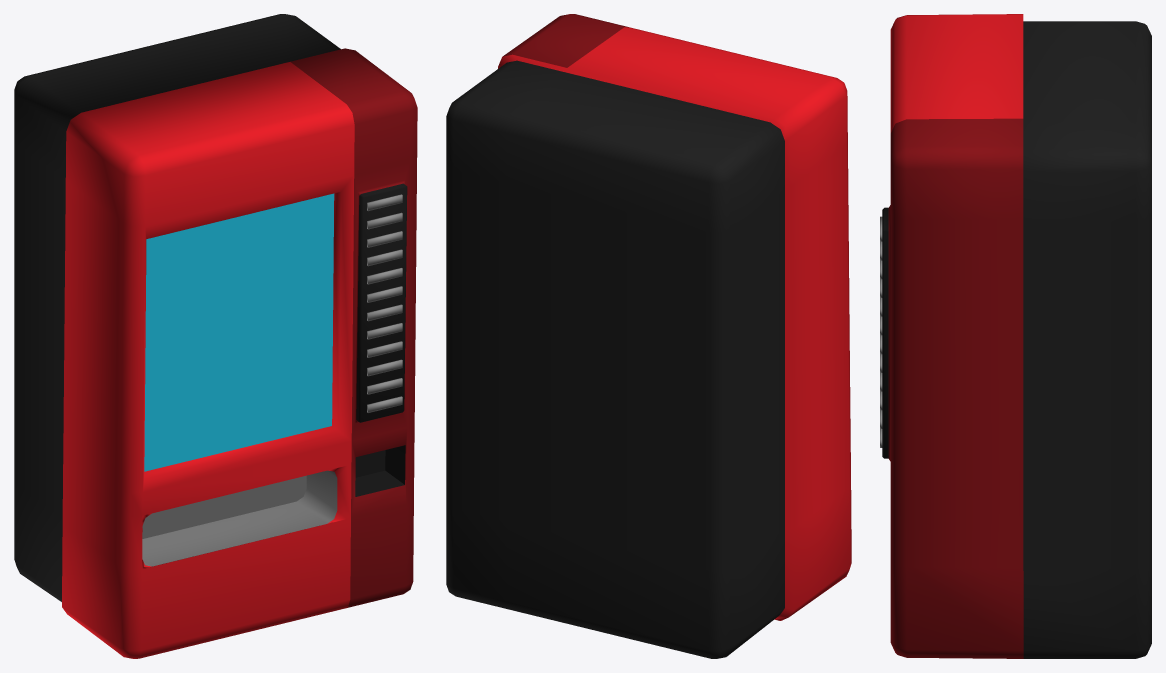
The model's file is newVend.fbx.
3 renders of one model, left to right at view 1: azimuth 30°, elevation 25°; view 2: azimuth 150°, elevation 25°; view 3: azimuth 270°, elevation 25°, orthographic. The views are drawn at different scales.
Visible parts, largest first — view 1: Cube; view 2: Cube; view 3: Cube.
Part boxes in pixels (x1,y1,x2,y2): Cube: (14, 14, 417, 658); Cube: (446, 14, 851, 658); Cube: (880, 14, 1151, 658).
Bounding box in the file's own units: 257 × 416 × 199.
